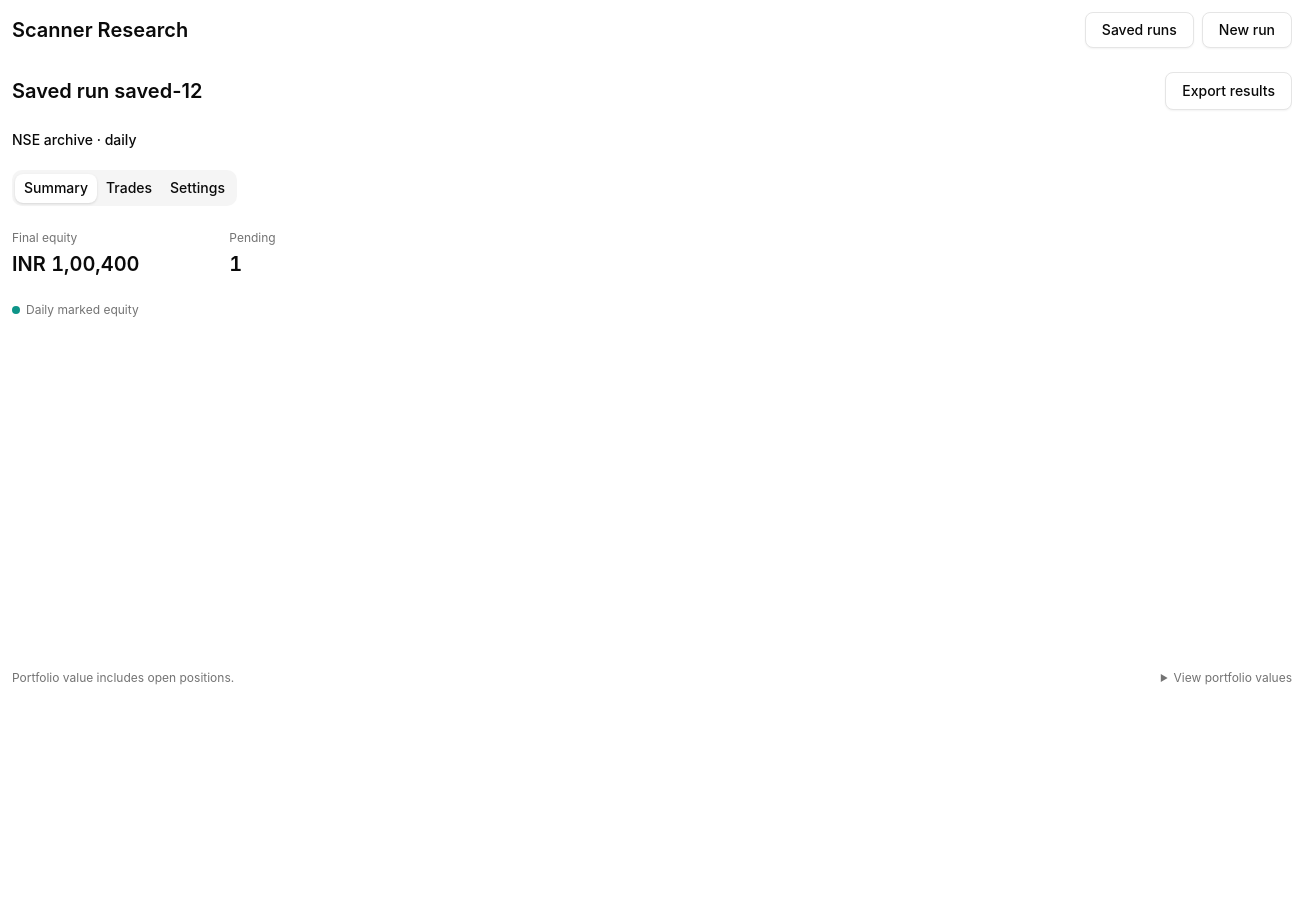
Scanner Research journey › labels the actual saved price provider and opens only the summary
Expected: the text "NSE archive · daily" is shown, [12,131,136,148]
Click the tab "Settings" at [198, 188], box [161,174,234,202]
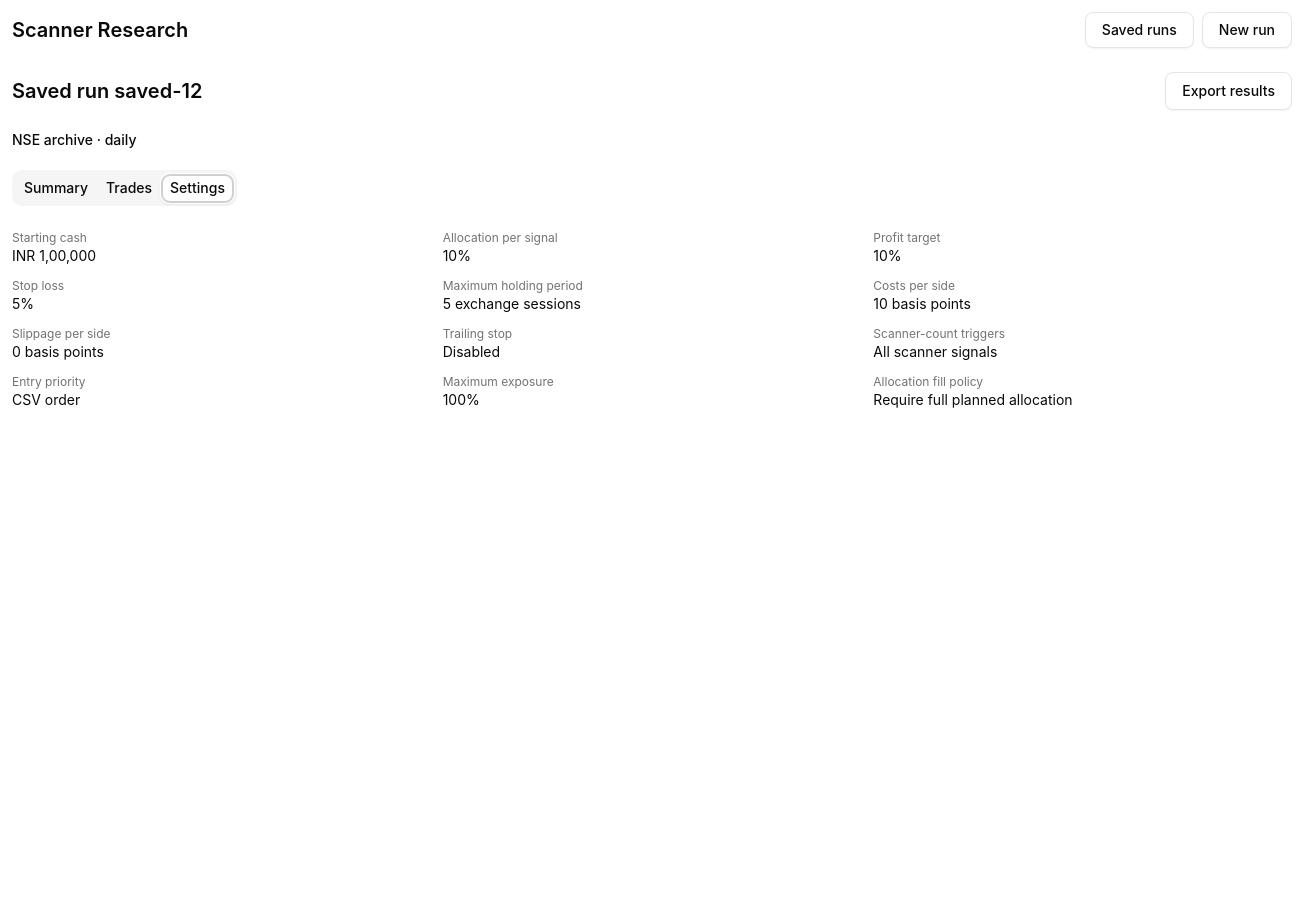
Result: the text "Starting cash" is shown at [12,230,87,245]
